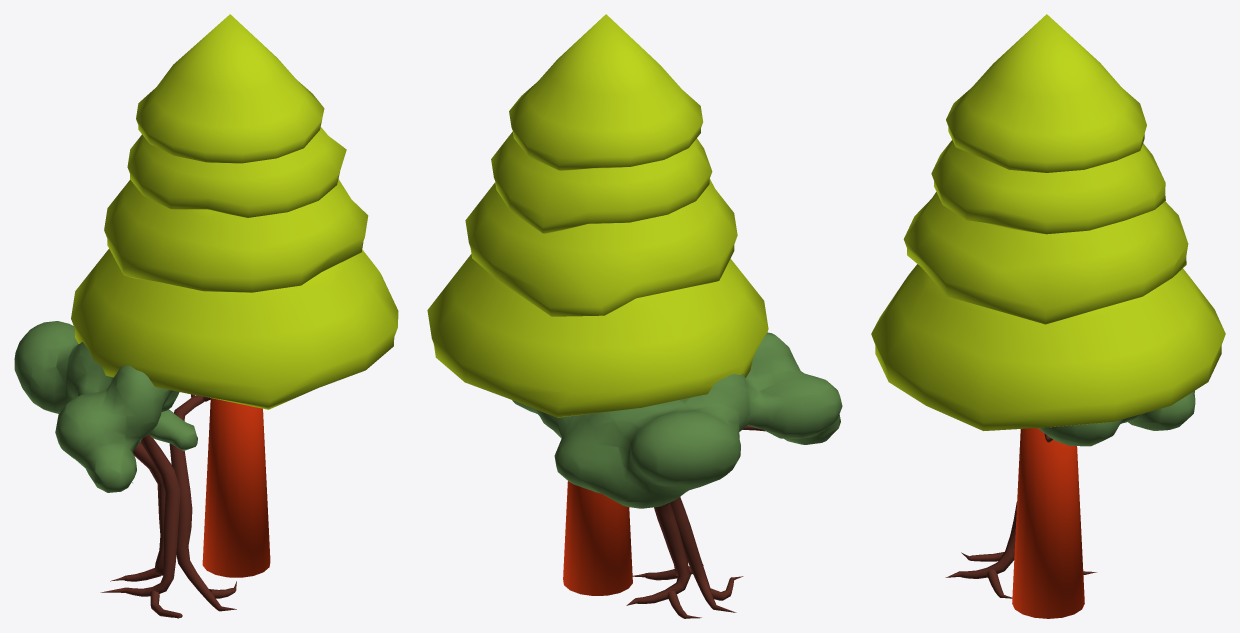
File: TreeSample3.fbx
3 views of the same model, side by side, from view 1: azimuth 30°, elevation 25°; view 2: azimuth 150°, elevation 25°; view 3: azimuth 270°, elevation 25° (orthographic). The views are drawn at different scales.
Visible parts, largest first — view 1: Cylinder.001, Cylinder.002, Cylinder.004, Mball.018, Cylinder.003, Cylinder, NurbsPath.003, NurbsPath, NurbsPath.002; view 2: Cylinder.001, Mball.018, Cylinder.002, Cylinder.004, Cylinder.003, Cylinder, NurbsPath.002, NurbsPath.003; view 3: Cylinder.001, Cylinder.002, Cylinder.004, Cylinder.003, Cylinder, Mball.018, NurbsPath.
Boxes of the visible parts, x1,y1,x2,y2 form: Cylinder.001: (71, 249, 398, 409); Cylinder.002: (104, 179, 368, 292); Cylinder.004: (136, 14, 324, 163); Mball.018: (14, 321, 197, 492); Cylinder.003: (127, 127, 346, 217); Cylinder: (202, 398, 270, 577); NurbsPath.003: (100, 434, 182, 618); NurbsPath: (169, 394, 236, 611); NurbsPath.002: (110, 442, 165, 581); Cylinder.001: (427, 254, 768, 417); Mball.018: (512, 332, 842, 508); Cylinder.002: (465, 179, 737, 316); Cylinder.004: (509, 14, 703, 170); Cylinder.003: (491, 132, 712, 233); Cylinder: (563, 481, 632, 595); NurbsPath.002: (626, 502, 701, 618); NurbsPath.003: (670, 426, 765, 612); Cylinder.001: (871, 264, 1225, 430); Cylinder.002: (903, 192, 1188, 324); Cylinder.004: (946, 14, 1146, 172); Cylinder.003: (931, 140, 1165, 234); Cylinder: (1012, 428, 1084, 618); Mball.018: (1038, 391, 1195, 446); NurbsPath: (945, 433, 1052, 598).
Size of the model in its own units: 1175 by 1808 by 975.
